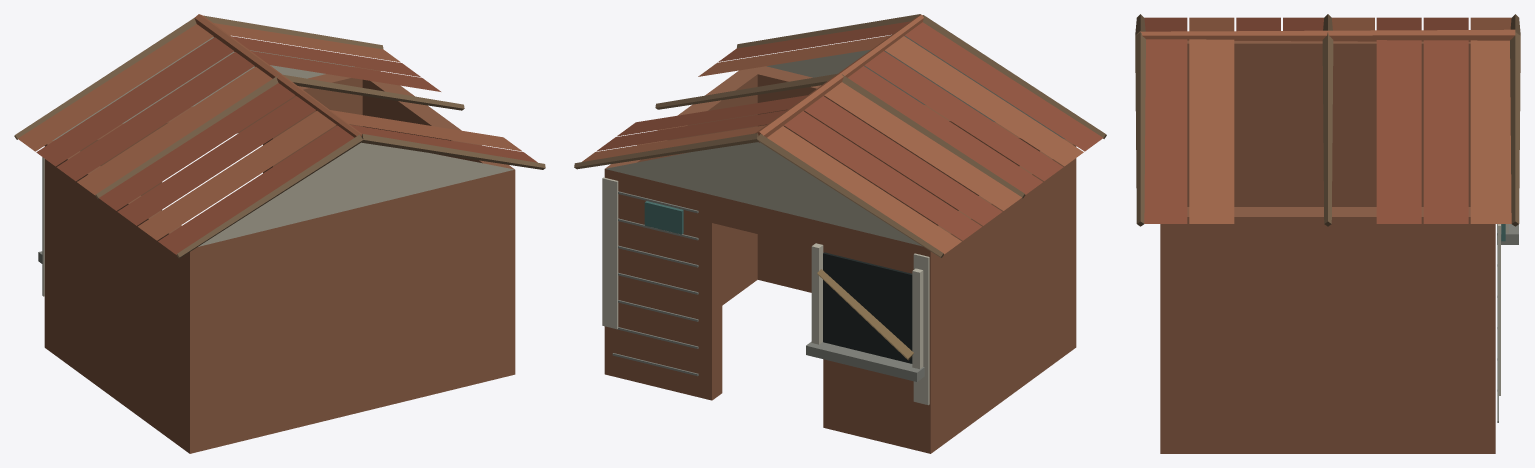
Rendered from shed_b.glb.
The picture shows the model from 3 angles, left to right: view 1: azimuth 30°, elevation 25°; view 2: azimuth 150°, elevation 25°; view 3: azimuth 270°, elevation 25°; orthographic projection. The views are drawn at different scales.
Parts seen in each view (by area): view 1: shed_b_visual; view 2: shed_b_visual; view 3: shed_b_visual.
Boxes of the visible parts, x1,y1,x2,y2 form: shed_b_visual: (14,14,545,453); shed_b_visual: (574,14,1106,453); shed_b_visual: (1135,14,1520,453).
Size of what is drawn, in the model's own units: 4.98 by 3.72 by 3.91.
